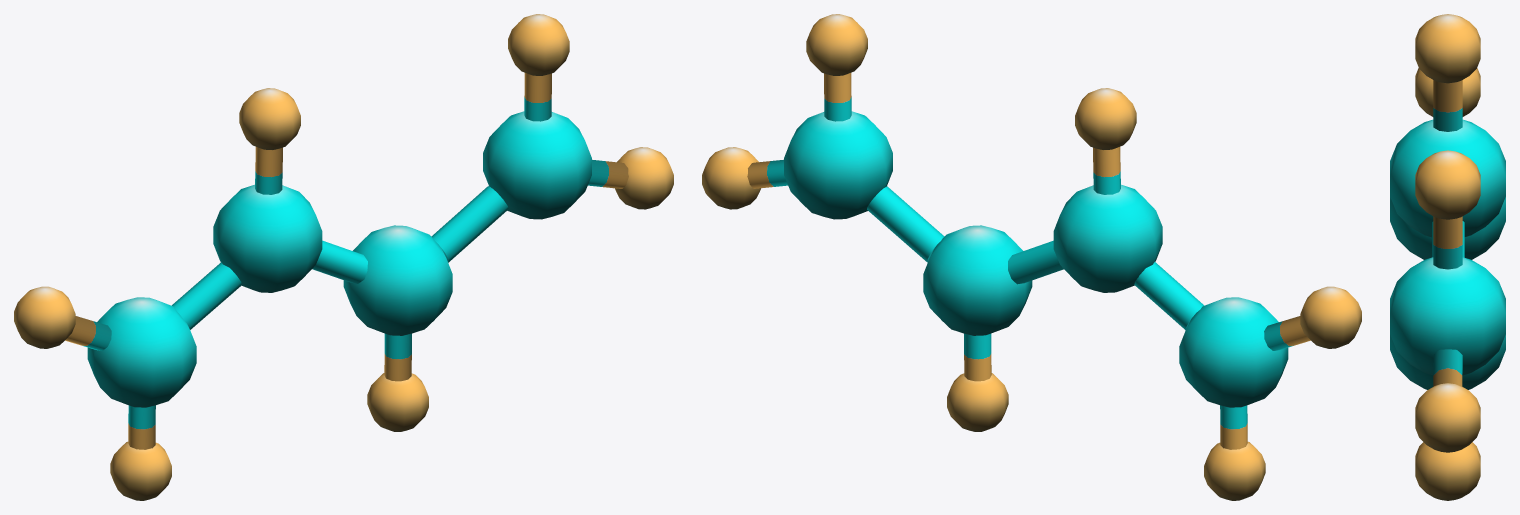
Rendered from S-trans-1-3-Butadiene.dae.
3 renders of one model, left to right at view 1: azimuth 30°, elevation 25°; view 2: azimuth 150°, elevation 25°; view 3: azimuth 270°, elevation 25°, orthographic. The views are drawn at different scales.
Parts seen in each view (by area): view 1: polySurface21; view 2: polySurface21; view 3: polySurface21.
Boxes of the visible parts, <box> form: polySurface21: <box>14,14,673,500</box>; polySurface21: <box>702,14,1361,500</box>; polySurface21: <box>1390,14,1505,500</box>.
Size of the model in its own units: 4.77 by 2.69 by 0.6602.
1 material, 1 textured.
